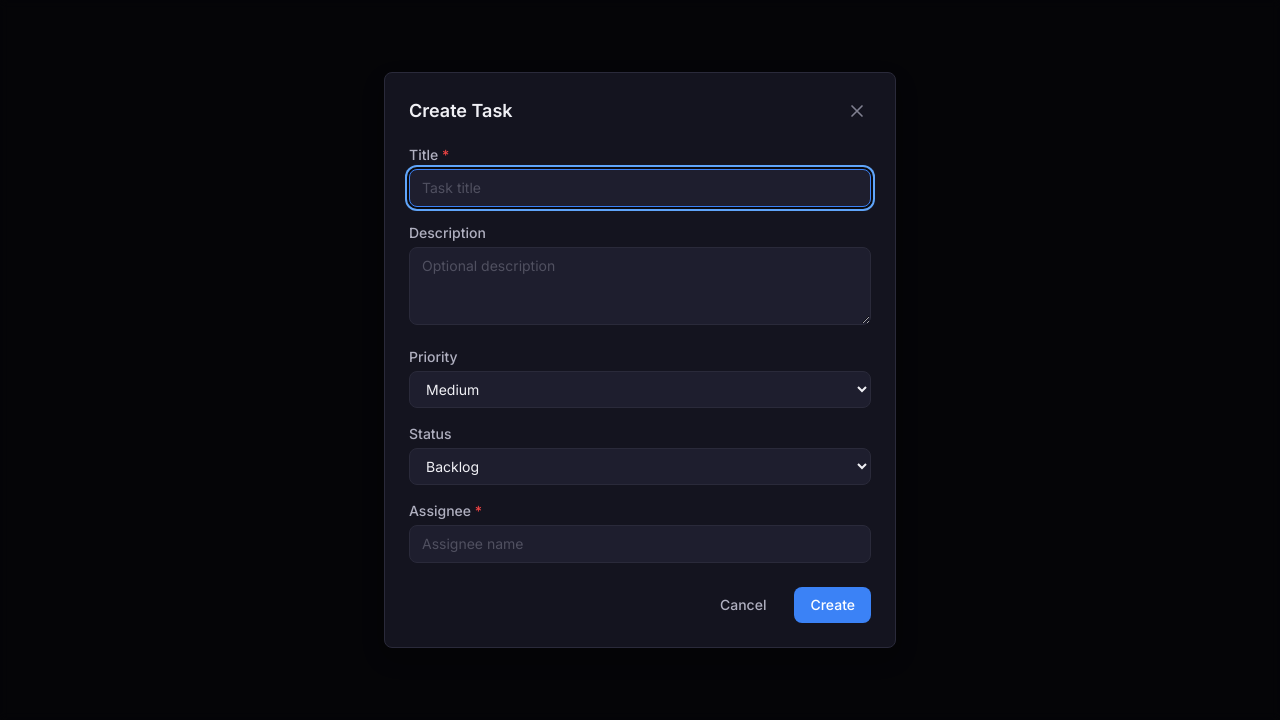
Scenario: CreateTaskModal — status dropdown › validation prevents submit with empty title
Type "Grace" into the field labelled "Assignee *". click: (640, 544)
box: [409,525,871,563]
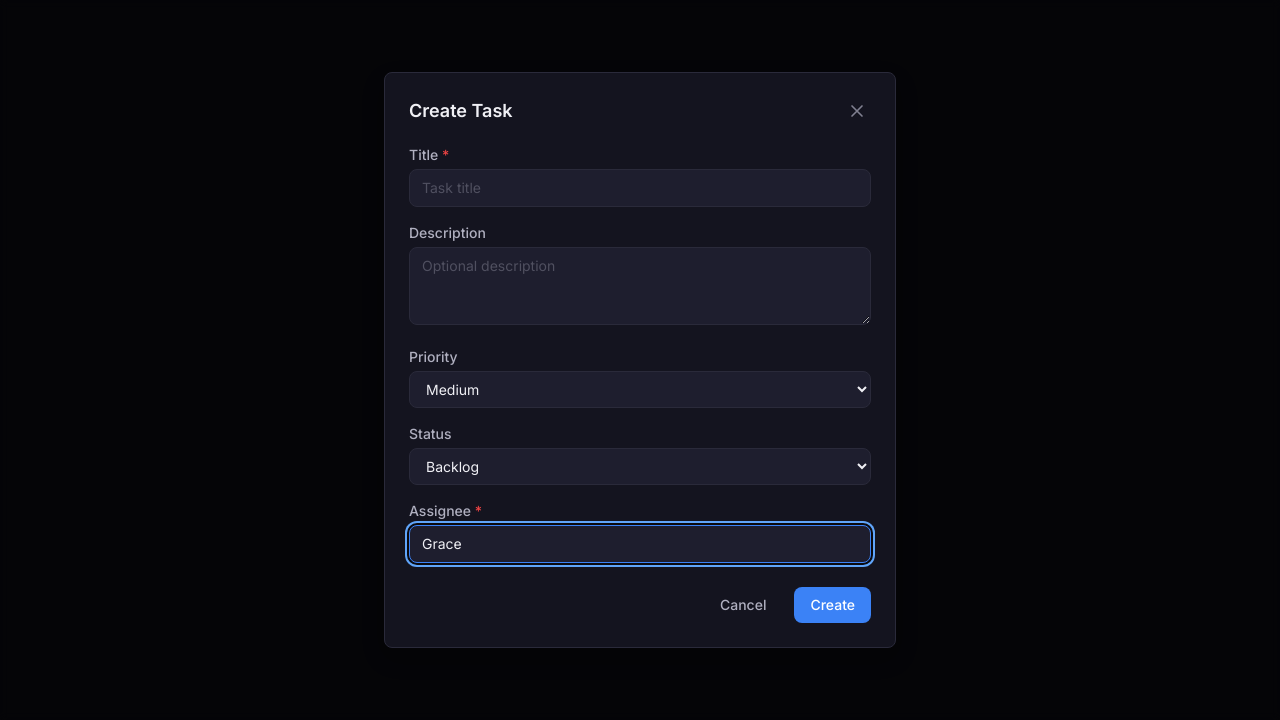
Click the button "Create". click: (833, 605)
box: [794,587,871,623]
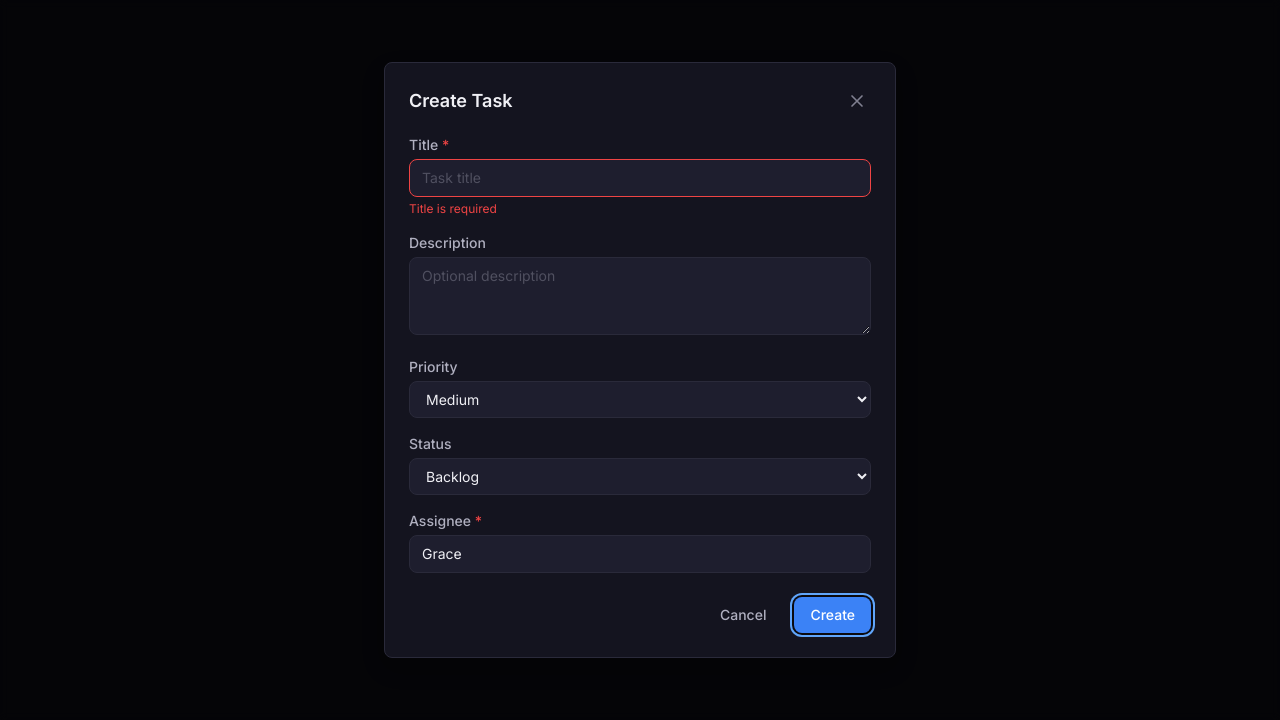
Expected: the text "Title is required" is shown, [409,201,497,216]
